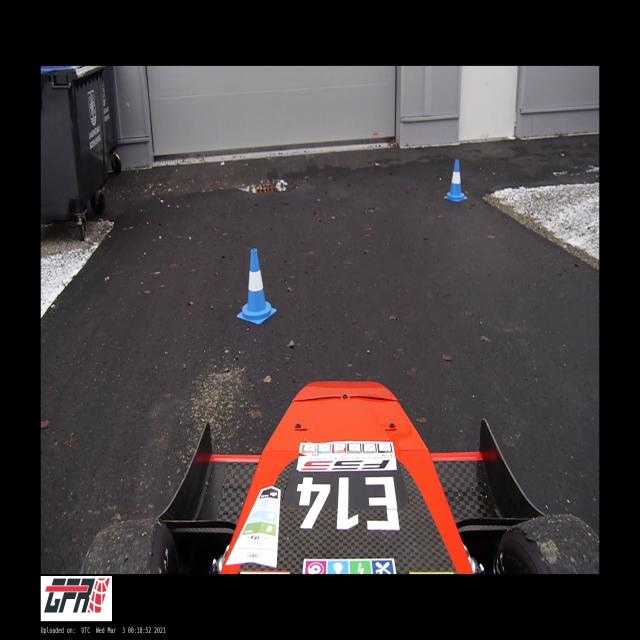blue_cone: (237, 249, 276, 325), (444, 159, 467, 202)
